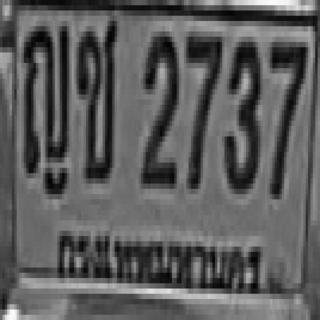A10: (75, 16, 116, 178)
A13: (22, 21, 67, 173)
N02: (138, 29, 177, 181)
N03: (222, 37, 260, 189)
N07: (267, 37, 306, 194), (184, 29, 220, 186)
P04: (50, 216, 267, 310)
